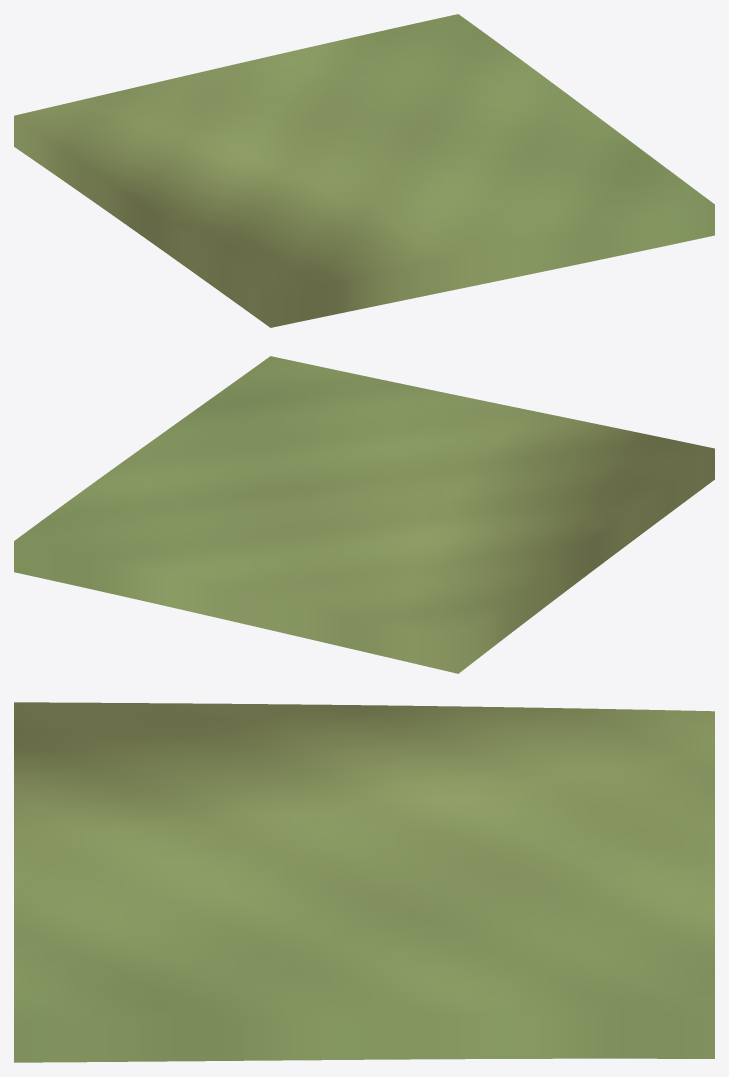
3 renders of one model, top to bottom at view 1: azimuth 30°, elevation 25°; view 2: azimuth 150°, elevation 25°; view 3: azimuth 270°, elevation 25°, orthographic. The views are drawn at different scales.
Parts seen in each view (by area): view 1: terrain; view 2: terrain; view 3: terrain.
Part boxes in pixels (x1,y1,x2,y2): terrain: (14,14,714,327); terrain: (14,356,714,673); terrain: (14,702,714,1062).
Bounding box in the file's own units: 30 × 3.03 × 30.
